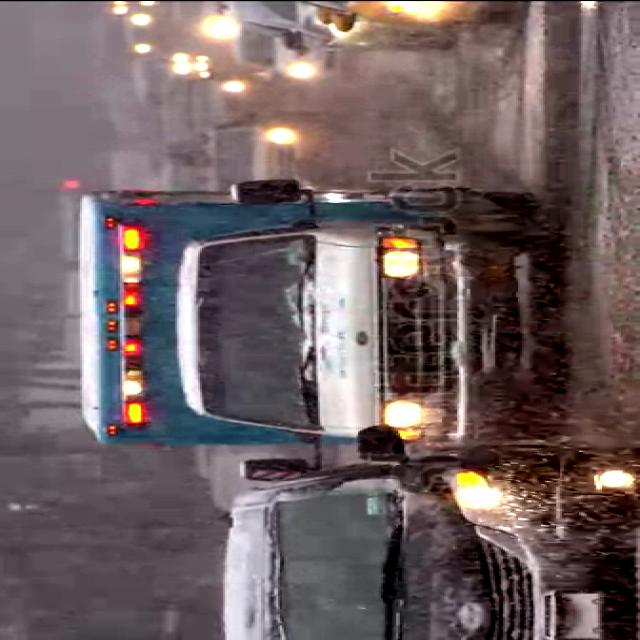ambulance: (76, 176, 558, 465)
